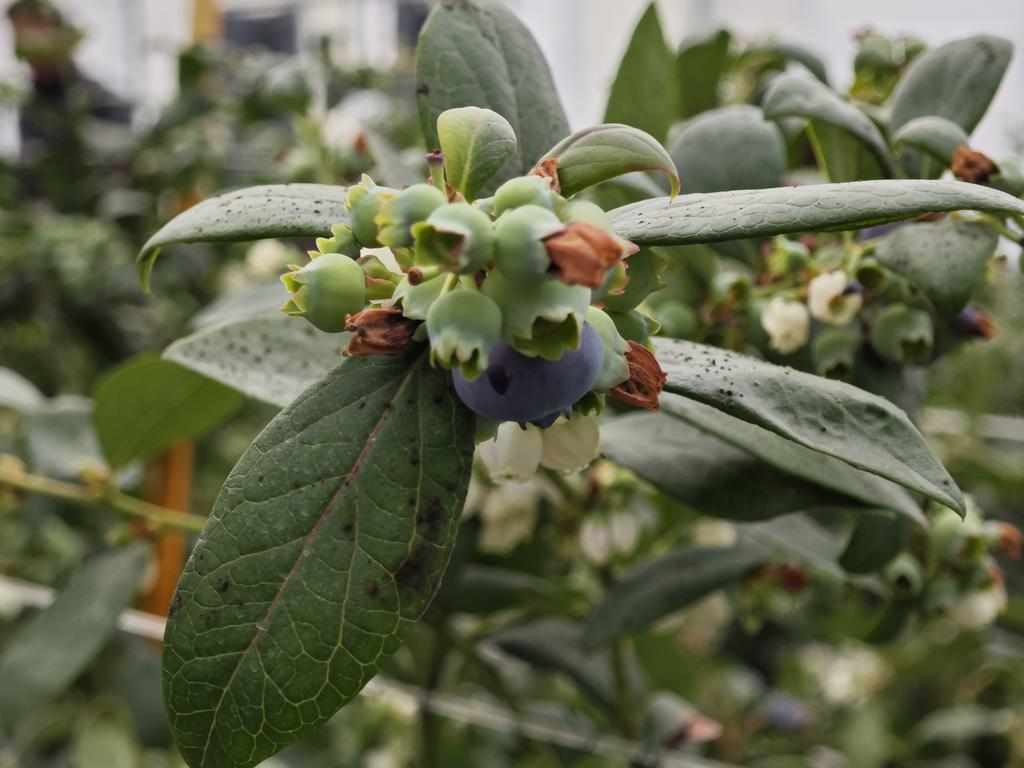RipeBlueBerry: (452, 324, 603, 423)
